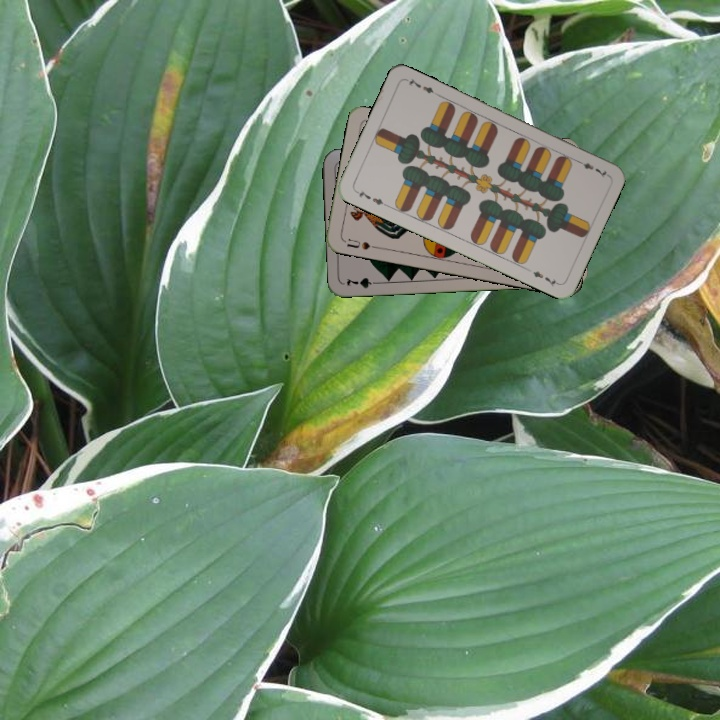E7: (572, 156, 610, 180), (351, 186, 389, 209)
G7: (342, 274, 383, 290)
SU: (340, 235, 380, 252)
